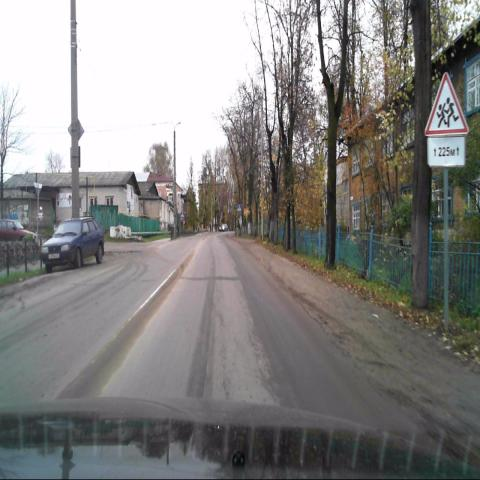1_23: (425, 72, 469, 137)
8_2_1: (427, 137, 465, 167)
